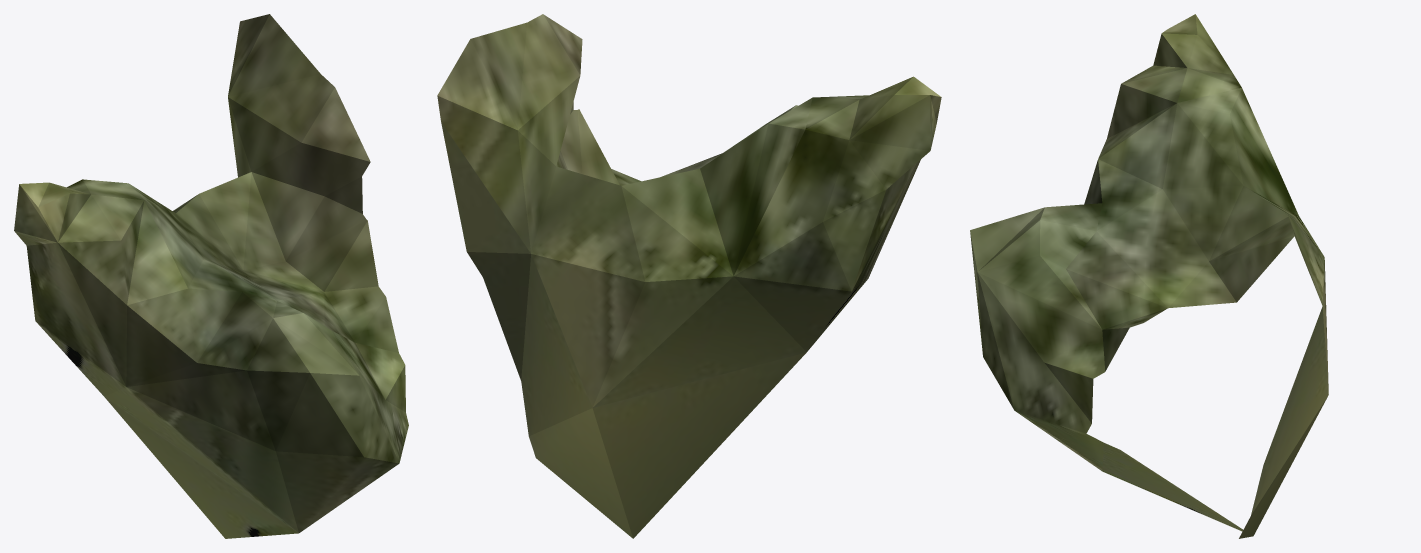
3 renders of one model, left to right at view 1: azimuth 30°, elevation 25°; view 2: azimuth 150°, elevation 25°; view 3: azimuth 270°, elevation 25°, orthographic. The views are drawn at different scales.
Size of the model in its own units: 0.9145 by 1.21 by 1.09.
Materials: 1 (1 with a texture image).
